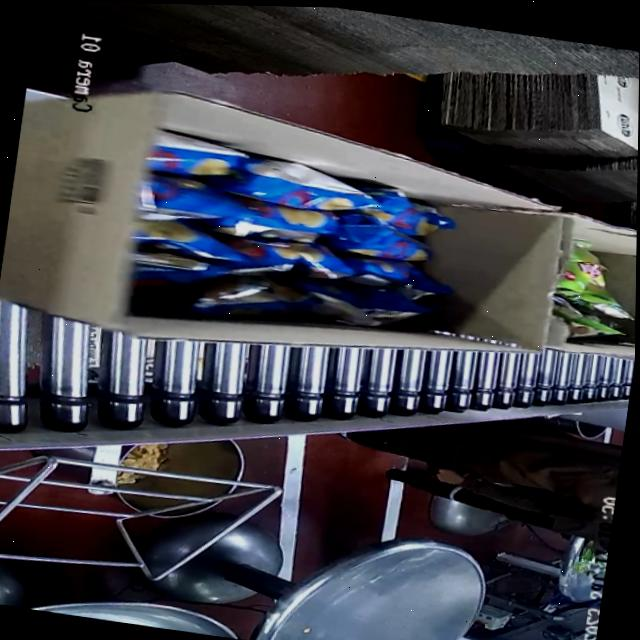PAPRIKA: (127, 122, 472, 350)
